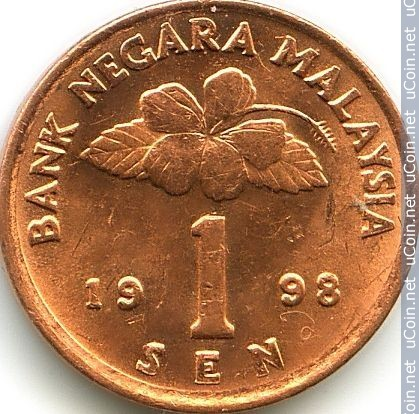1c: (0, 2, 416, 412)
